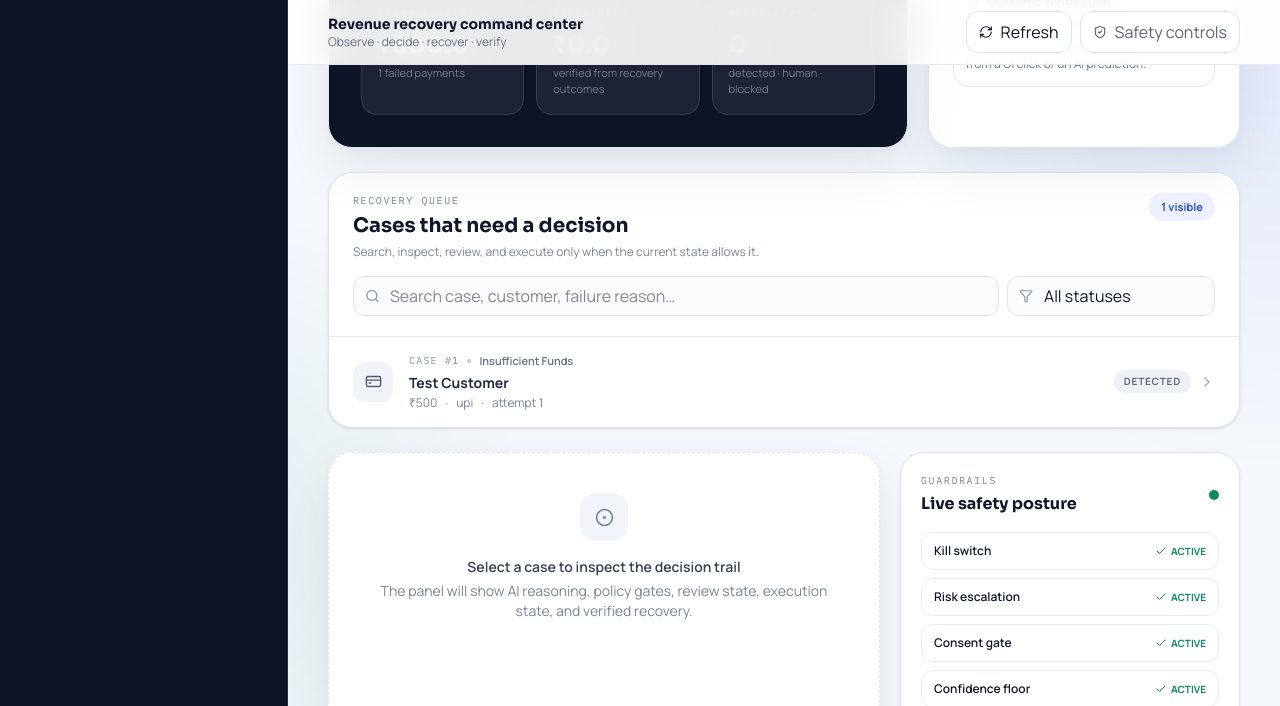
Test: VasoolConsole › completes analyze -> review -> execute with the mocked fetch layer
(page scrolled)
Click the text "CASE #1": (434, 361) [409,353,459,368]
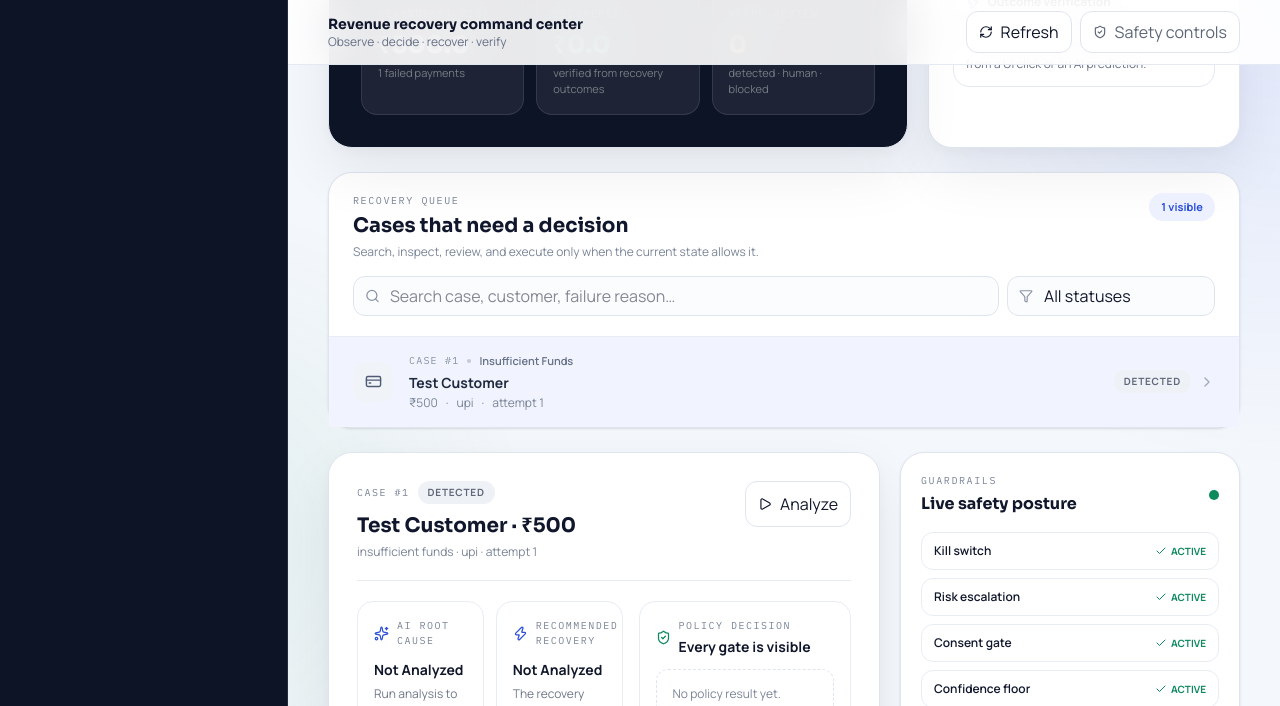
Click the button "Analyze": (798, 504) [745,481,851,527]
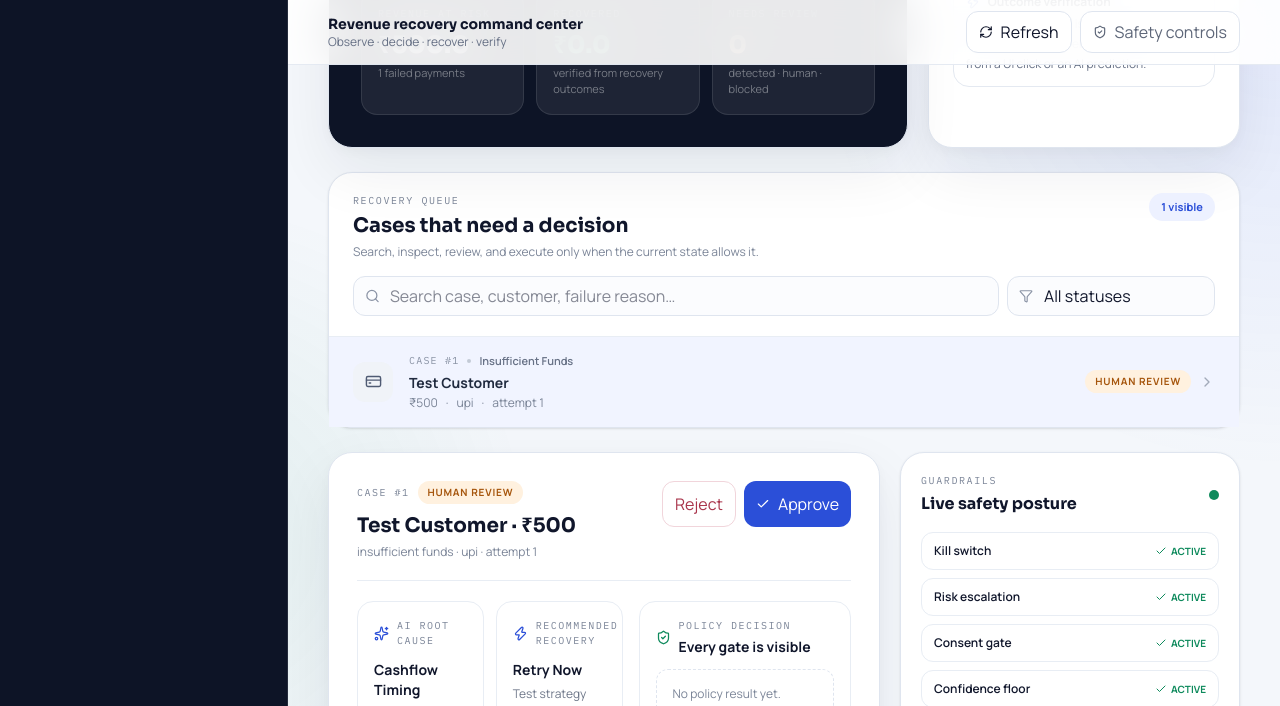
Result: the button "Approve" is shown
Click the button "Approve": (798, 504) [744,481,851,527]
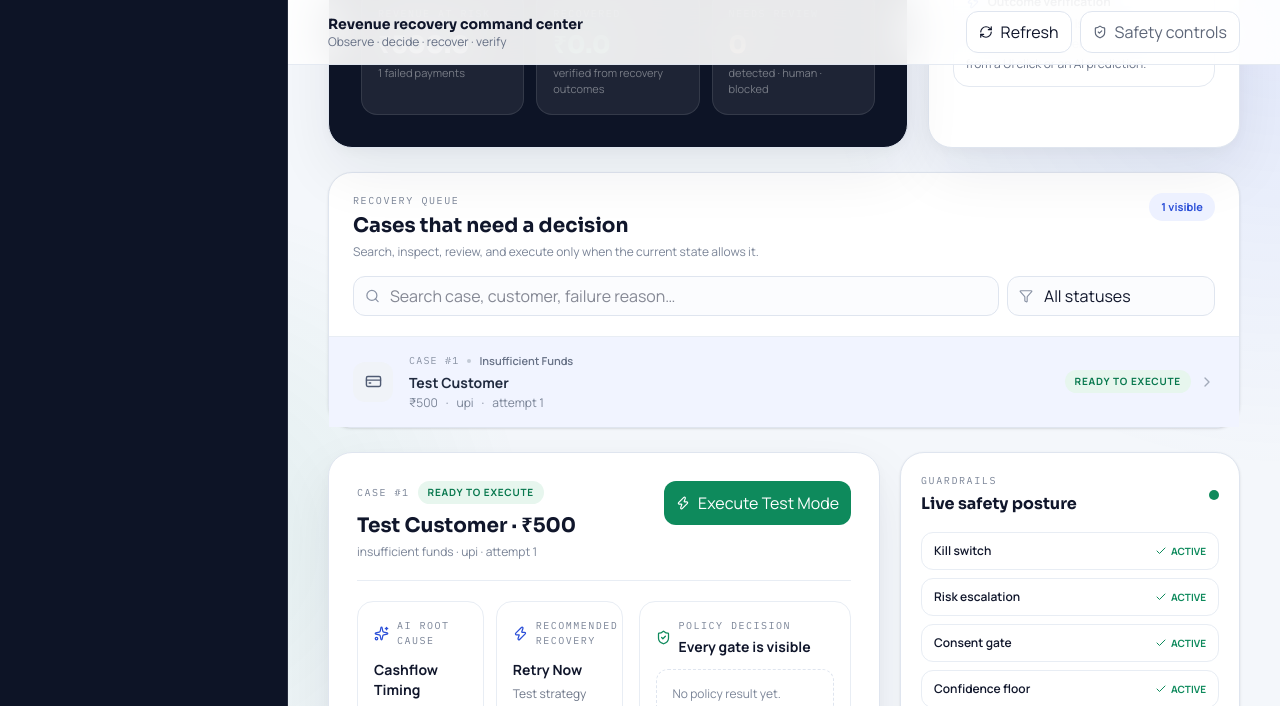
Result: the button "Execute Test Mode" is shown
Click the button "Execute Test Mode": (758, 503) [664,481,851,525]
(page scrolled)
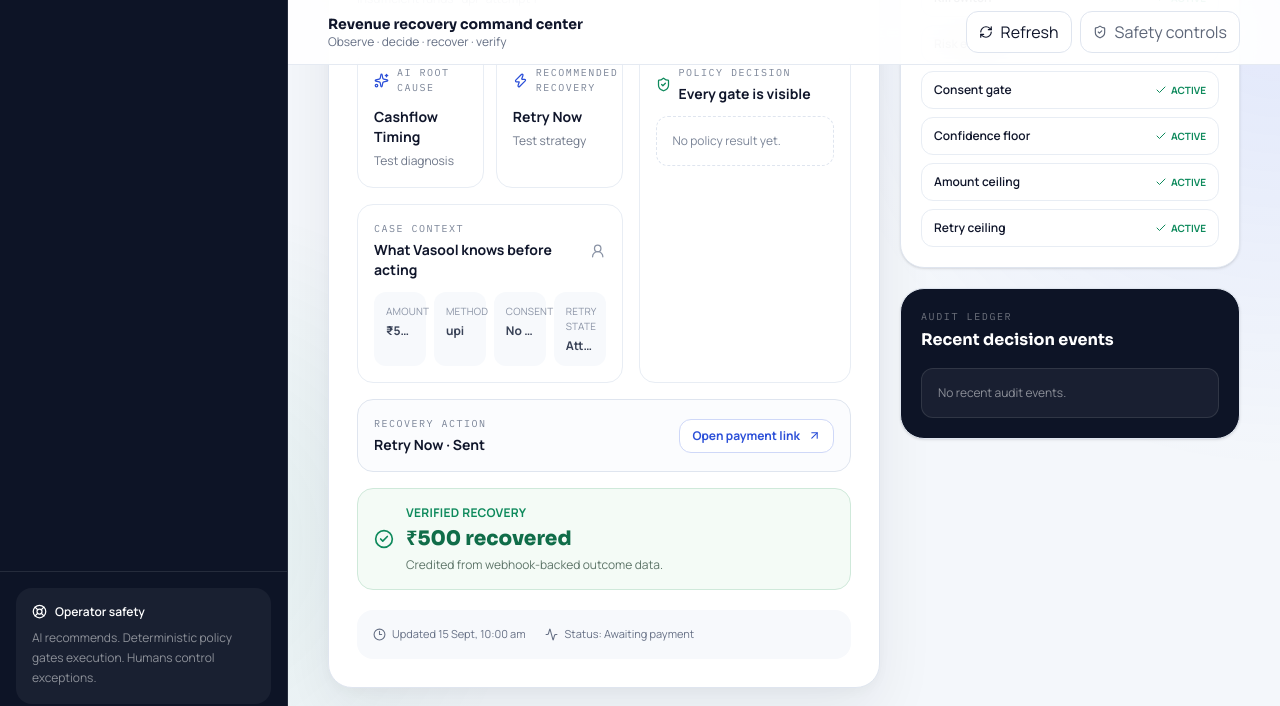
Result: the text "Verified recovery" is shown at [406,504,526,521]
